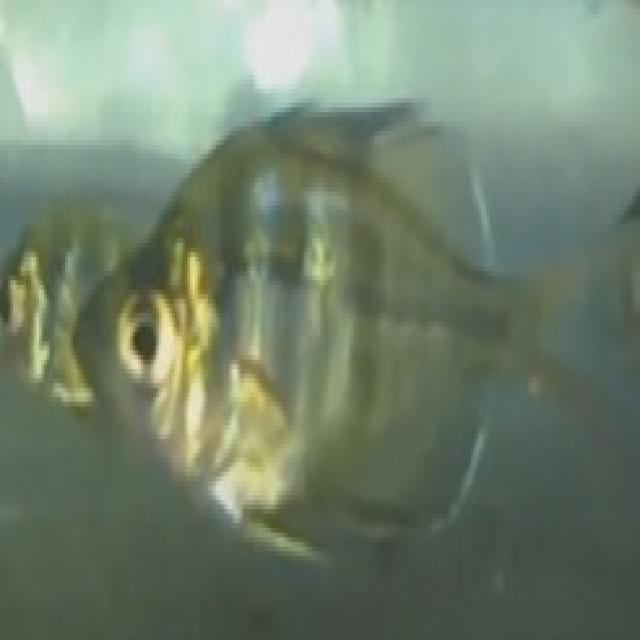Glass-Perchlet: (45, 50, 640, 625)
